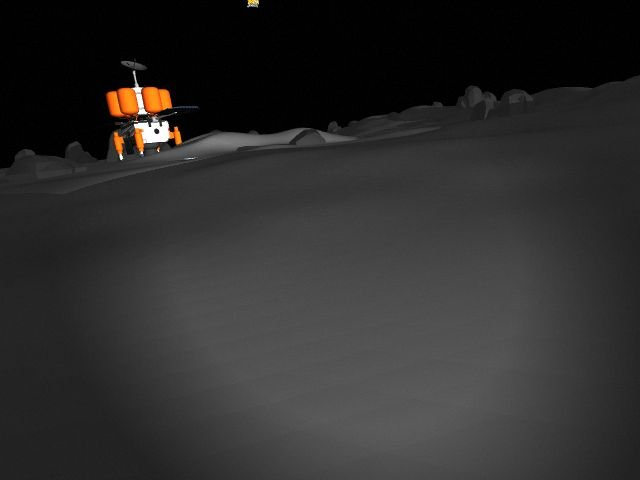homebase: (73, 57, 203, 164)
